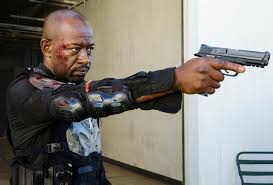Gun: (208, 38, 270, 71)
